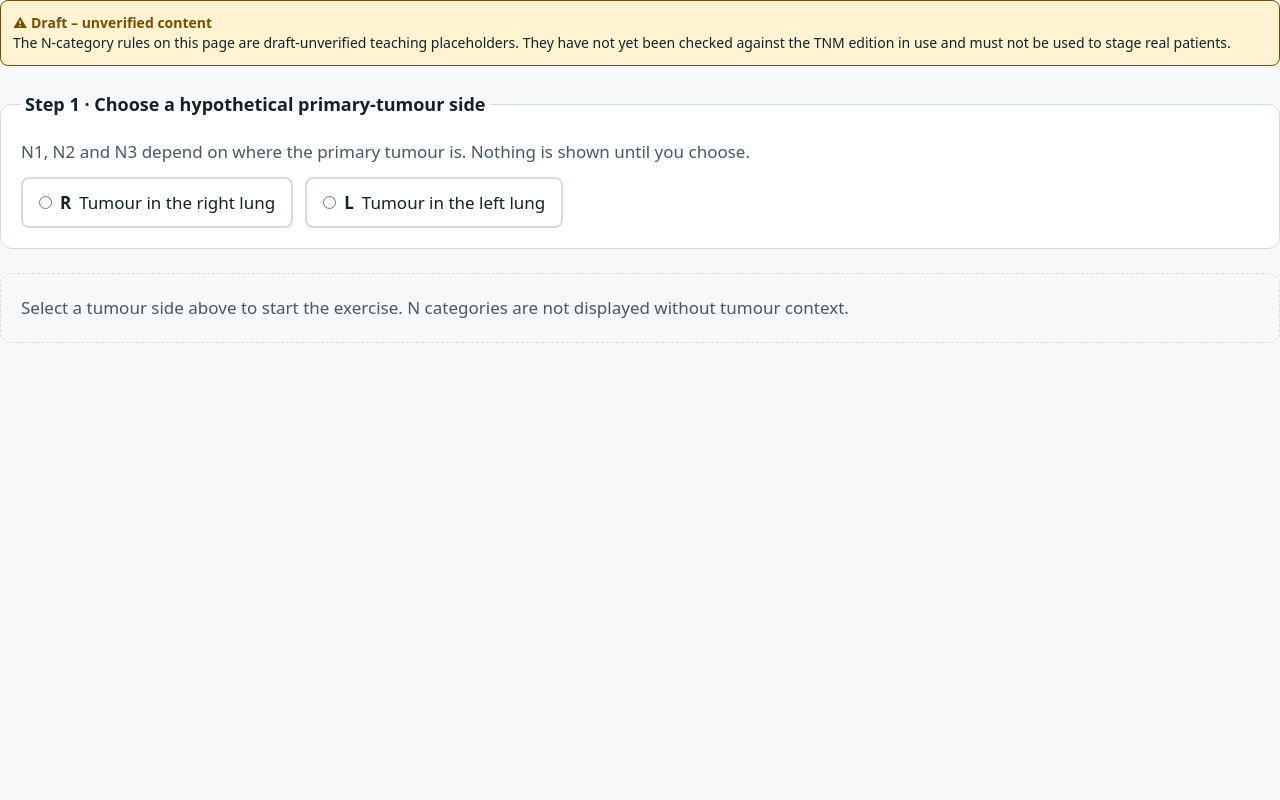
Test: StagingExercise › shows no N category until a tumour side is chosen
This screenshot has width=1280, height=800.
Check: the text with test id "no-context" is shown, box x1=0 y1=273 x2=1279 y2=343
Click the radio button labelled "R Tumour in the right lung". click: (46, 203)
box: x1=39 y1=196 x2=52 y2=209
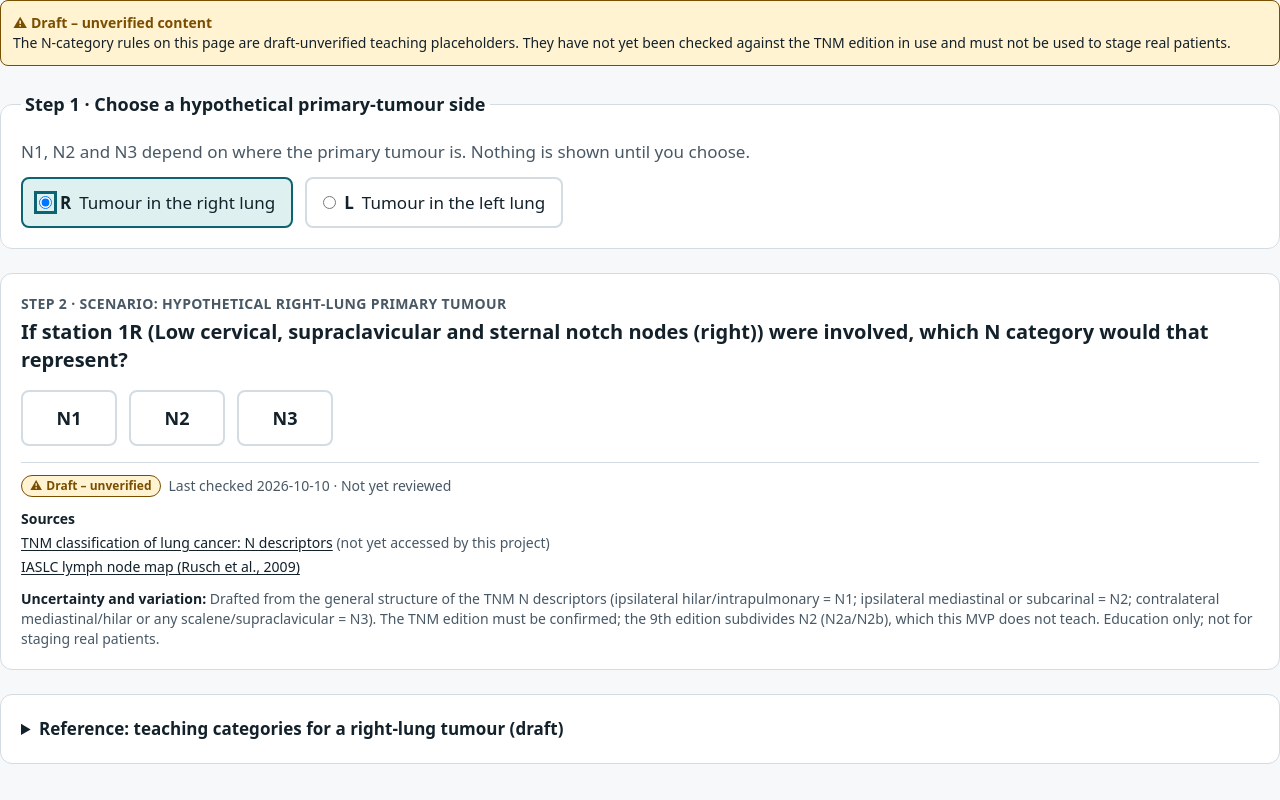
Check: the button "N1" is shown, box x1=21 y1=390 x2=117 y2=446
